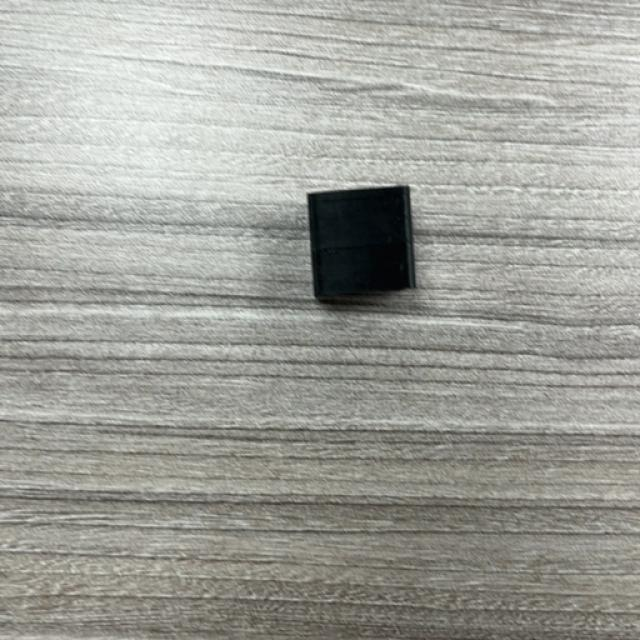Negro: (306, 186, 419, 304)
